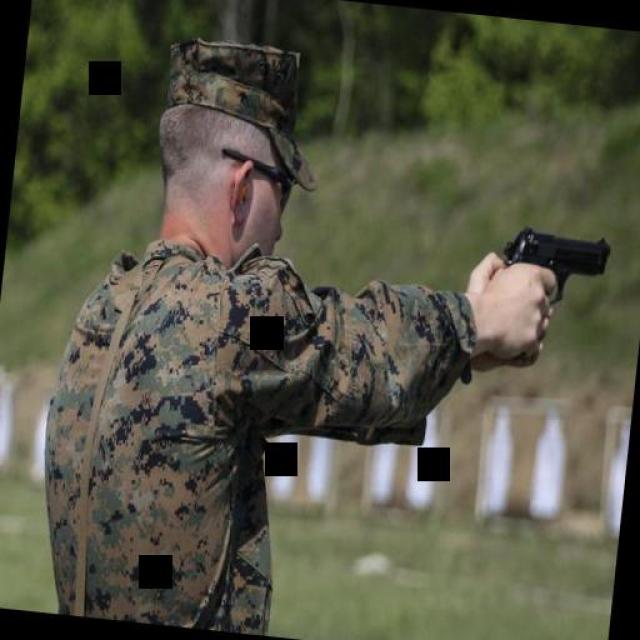gun: (490, 219, 611, 339)
